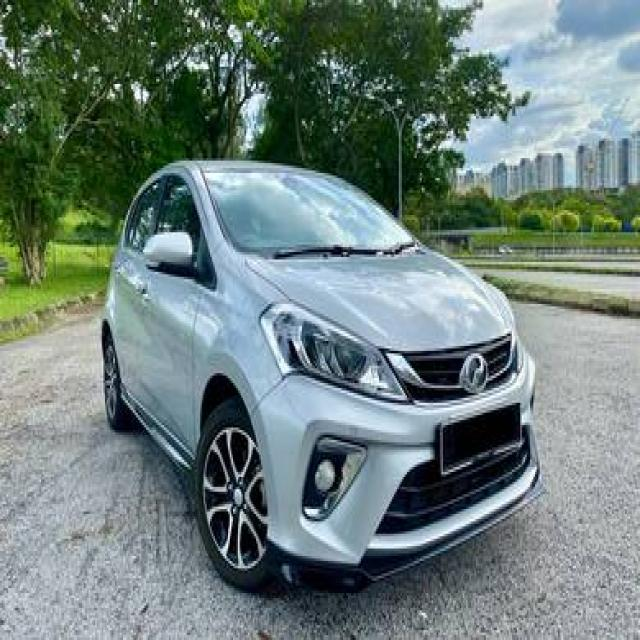PeroduaMyvi: (98, 153, 545, 593)
